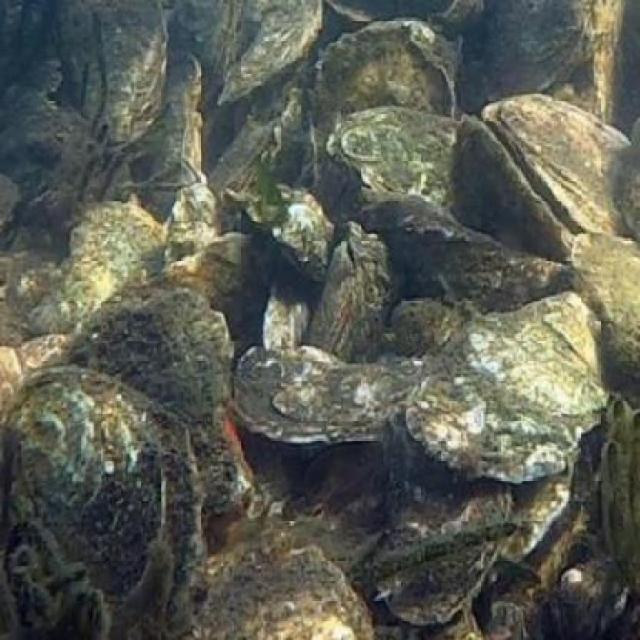Oyster- Indeterminate: (21, 365, 204, 633), (71, 295, 247, 520), (416, 294, 611, 478), (313, 20, 455, 230), (486, 93, 633, 239), (241, 337, 421, 442), (30, 201, 162, 333), (189, 549, 376, 640), (454, 117, 569, 258), (327, 110, 461, 203), (222, 0, 325, 103), (574, 228, 640, 371)
Oyster-Closed: (356, 205, 571, 317), (60, 0, 164, 154), (146, 56, 201, 216), (180, 160, 208, 191)
Oyster-Open: (307, 223, 399, 356)
